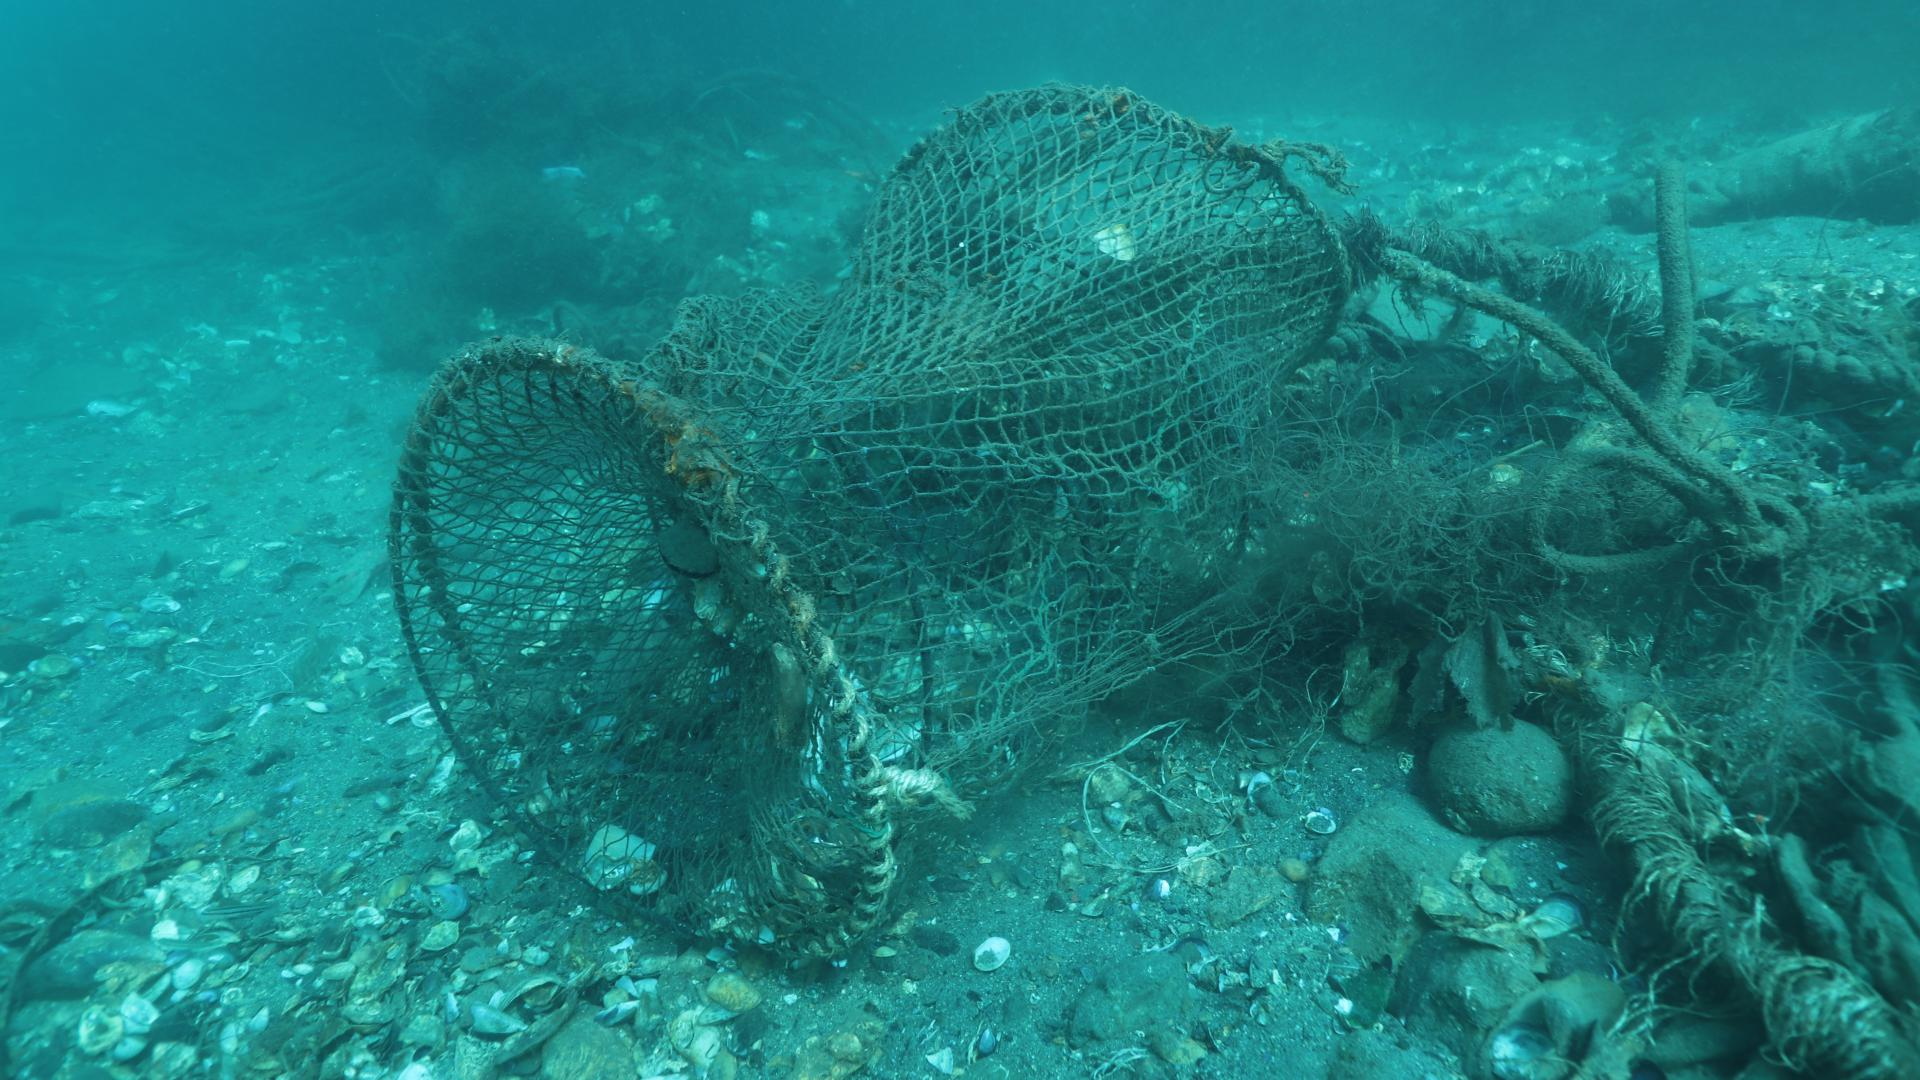bundle of ropes: (1254, 138, 1335, 171)
rope: (1793, 343, 1920, 404)
spring fish trap: (382, 76, 1352, 982)
